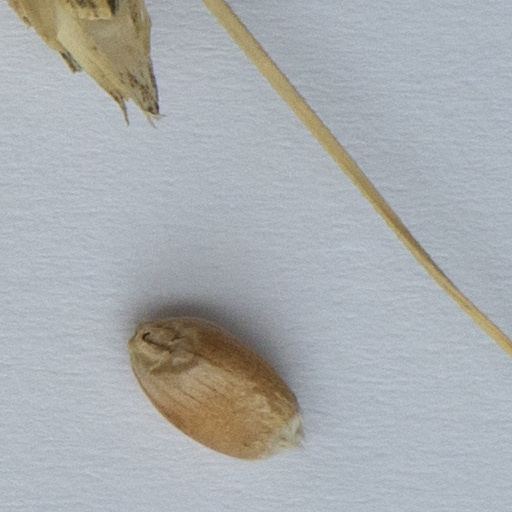Peel-poly: (193, 0, 511, 355), (5, 0, 159, 116)
